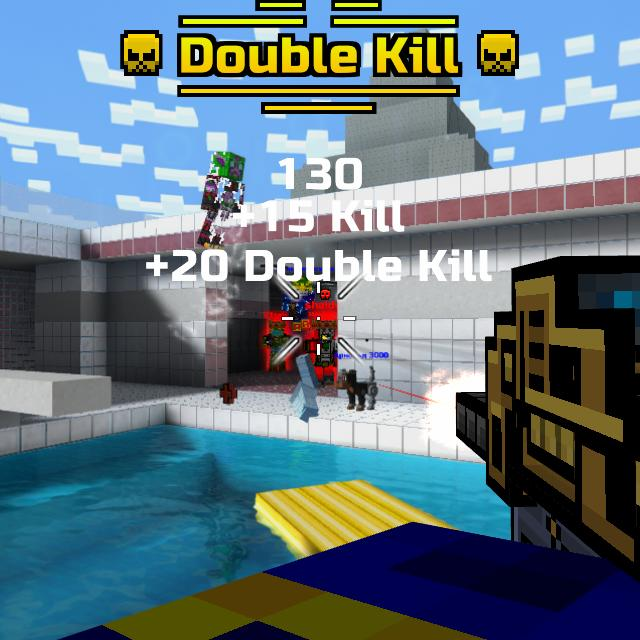Enemy: (302, 321, 337, 388), (262, 322, 293, 371)
